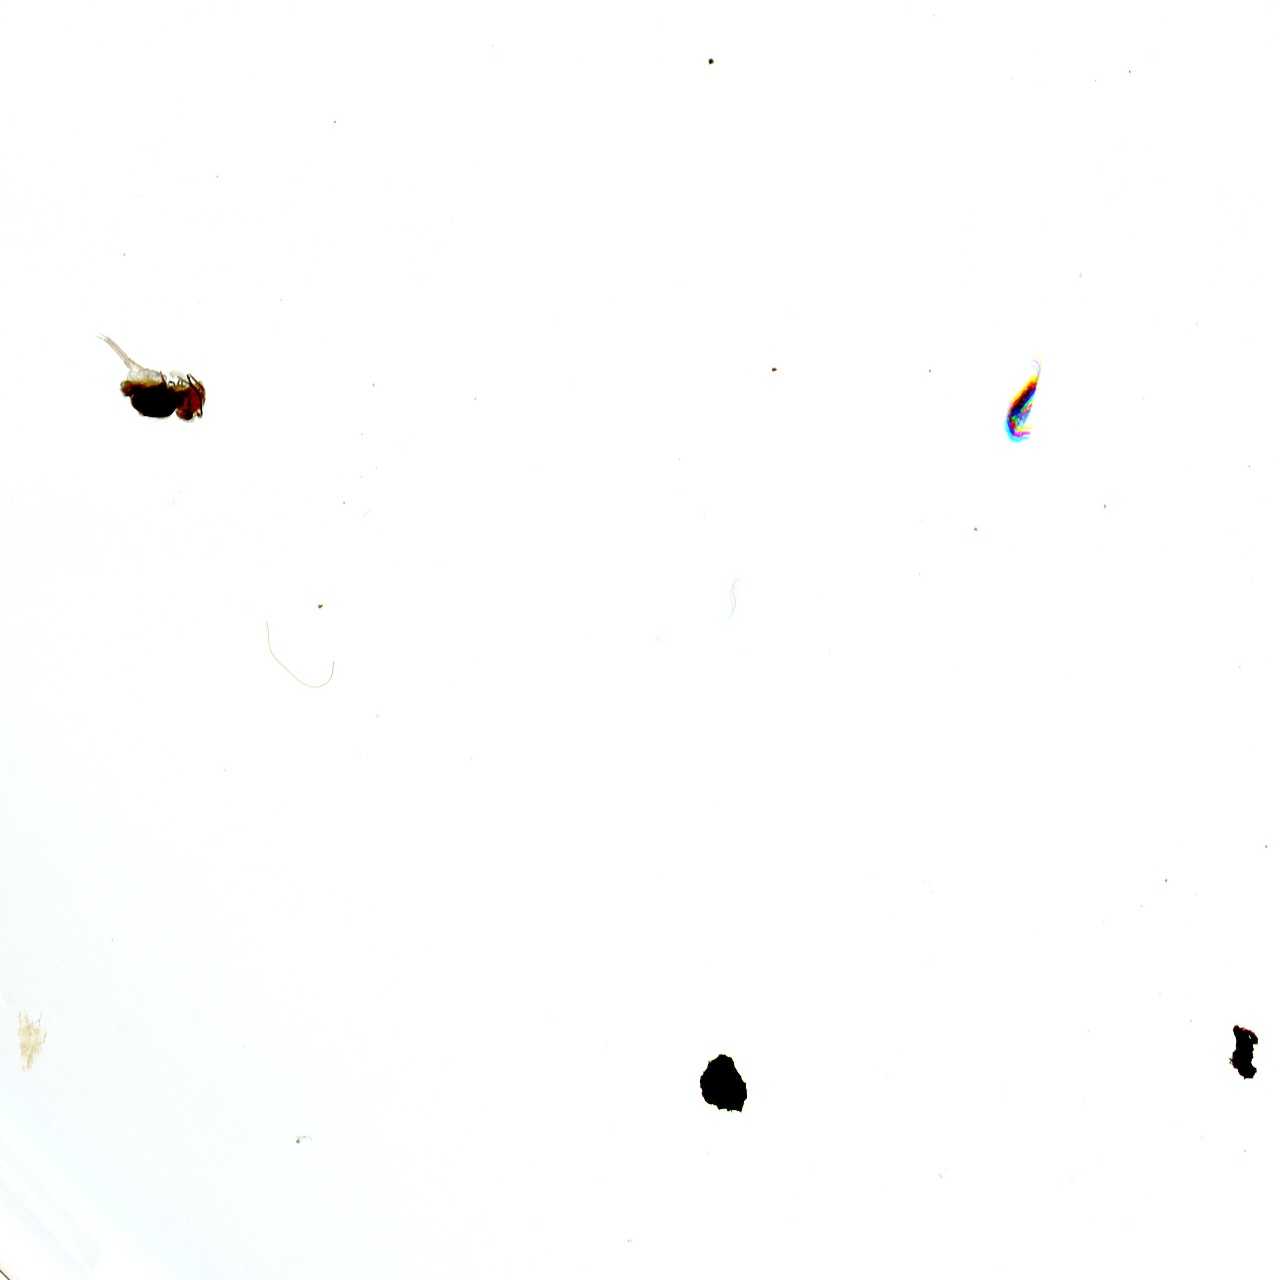arthropod: (90, 327, 210, 424), (1000, 349, 1047, 447)
